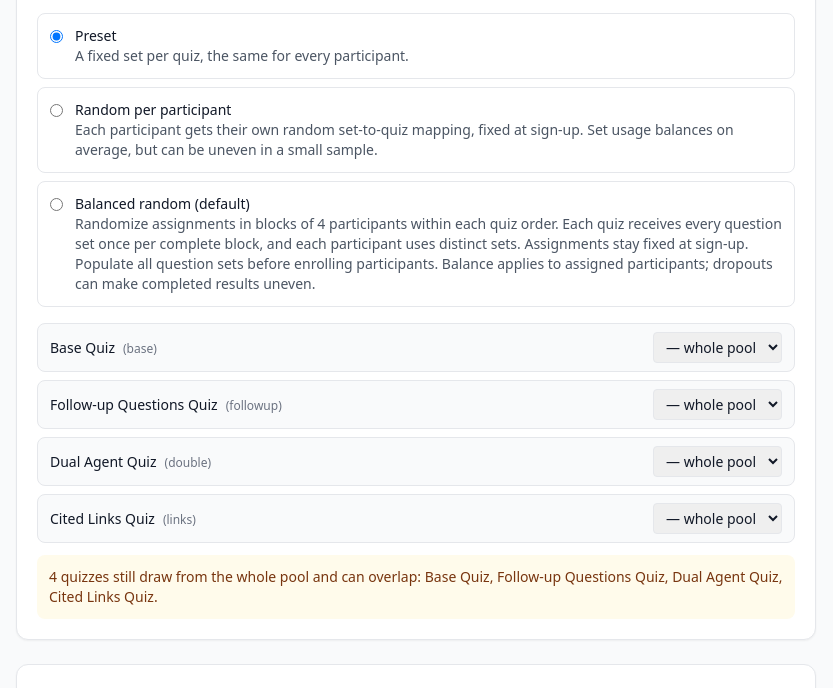
StudyFlowPanel — question sets › Save stays disabled until something changes
The width and height of the screenshot is (833, 688).
(page scrolled)
Select "Set D" in the dropdown named "Question set for Base Quiz": (718, 348) [653,332,782,363]
(page scrolled)
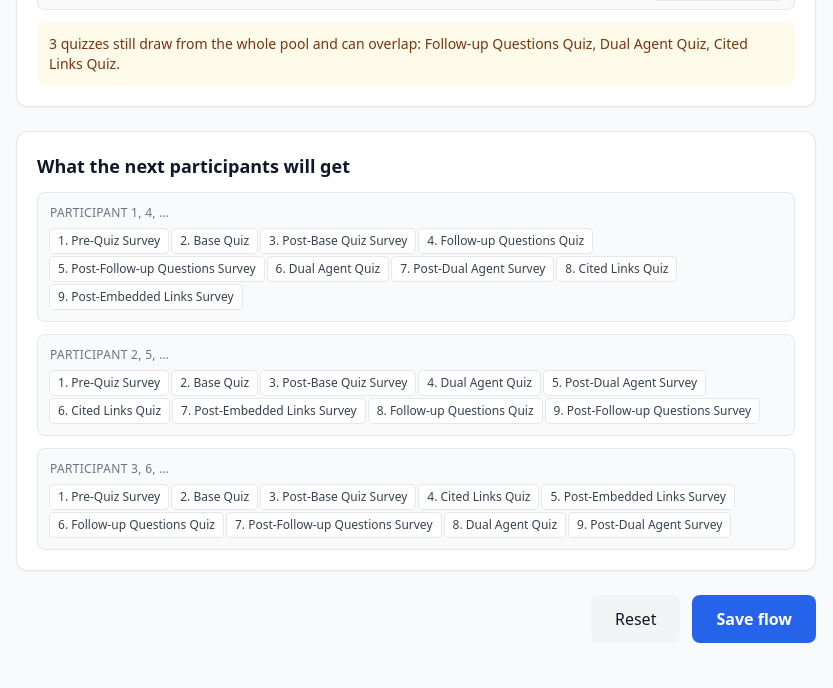
Now the button "Save flow" is enabled, box [692,595,816,643]
